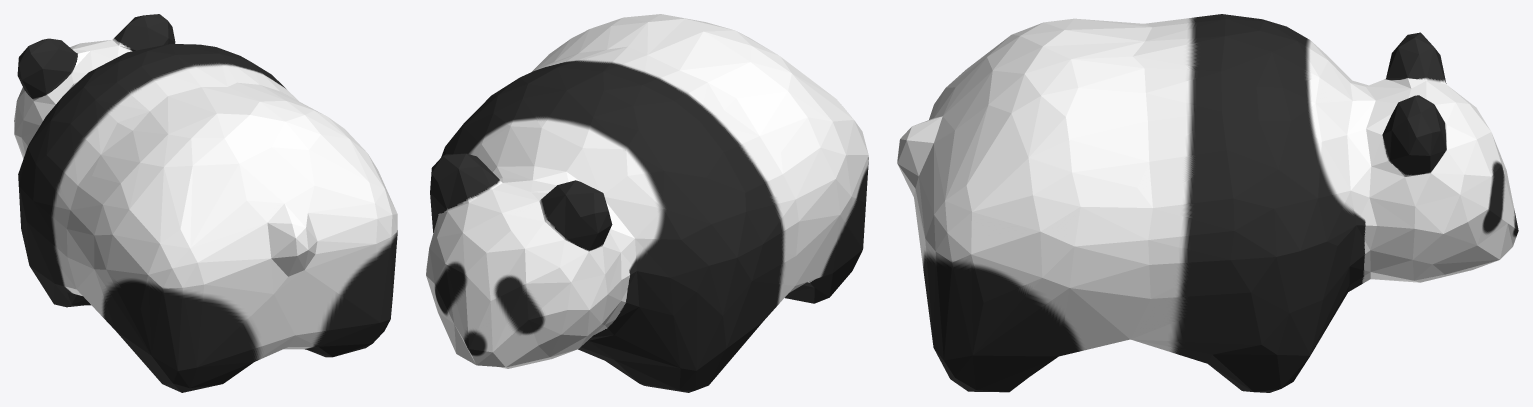
Rendered from animal_panda_blob.obj.
3 renders of one model, left to right at view 1: azimuth 30°, elevation 25°; view 2: azimuth 150°, elevation 25°; view 3: azimuth 270°, elevation 25°, orthographic. The views are drawn at different scales.
Parts seen in each view (by area): view 1: animal_panda_blob; view 2: animal_panda_blob; view 3: animal_panda_blob.
Part boxes in pixels (x1,y1,x2,y2): animal_panda_blob: [14, 14, 397, 392]; animal_panda_blob: [426, 14, 868, 392]; animal_panda_blob: [897, 14, 1518, 392].
Size of the model in its own units: 0.8514 by 0.7151 by 1.31.
